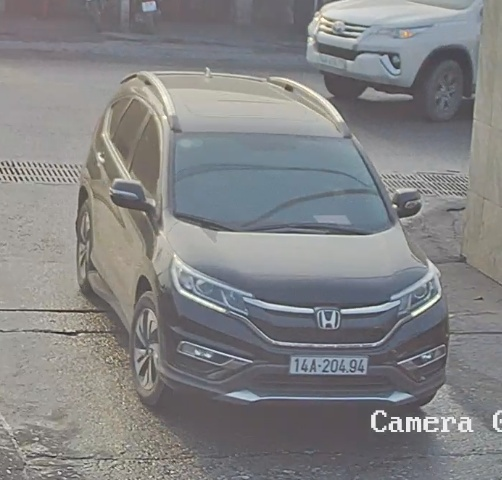vehicle plate: (286, 352, 373, 381)
